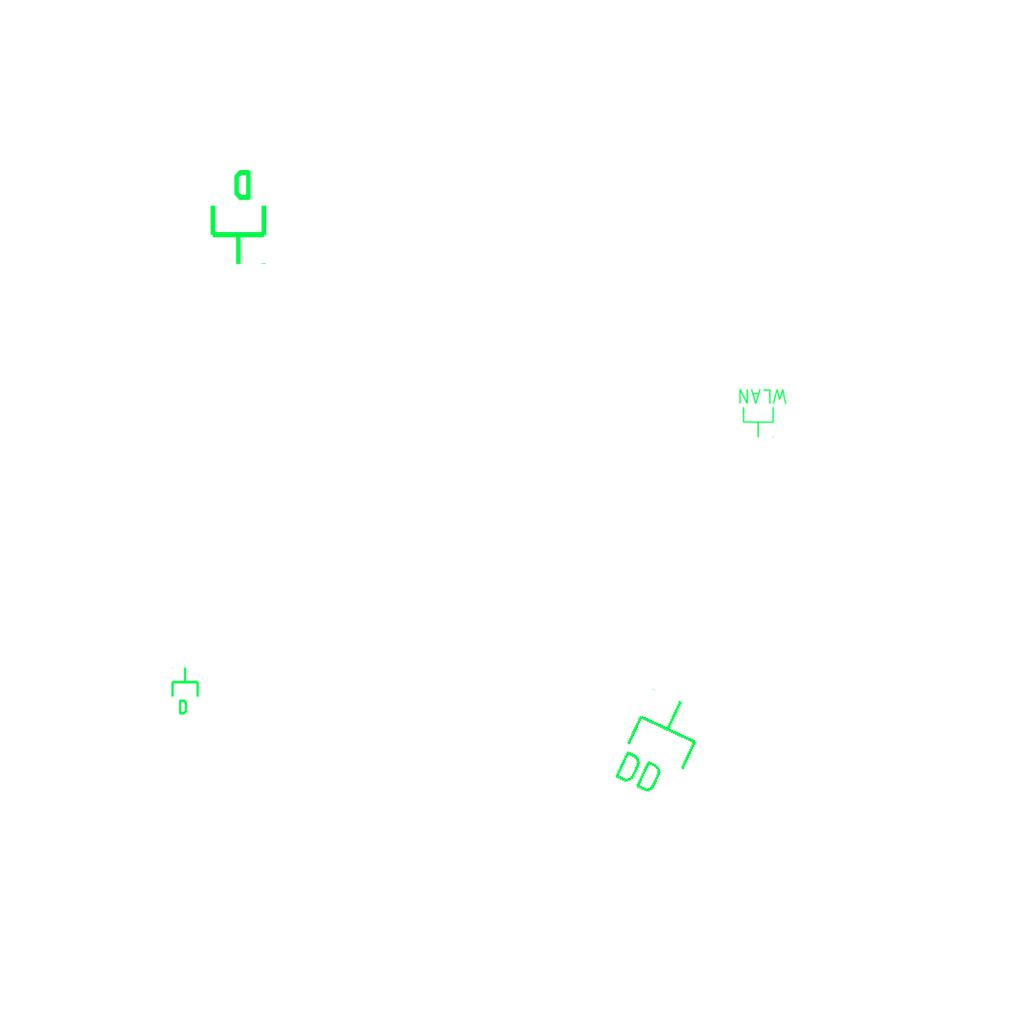Datenanschluss_einfach: (202, 167, 271, 267), (169, 666, 203, 716)
Datenanschluss_zweifach: (606, 684, 713, 807)
WLAN: (737, 387, 789, 439)
